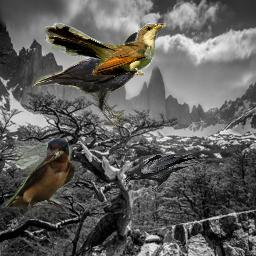Crow: (30, 31, 152, 127), (123, 153, 200, 191)
Cuckoo: (45, 23, 166, 76)
Swallow: (5, 138, 75, 218)
